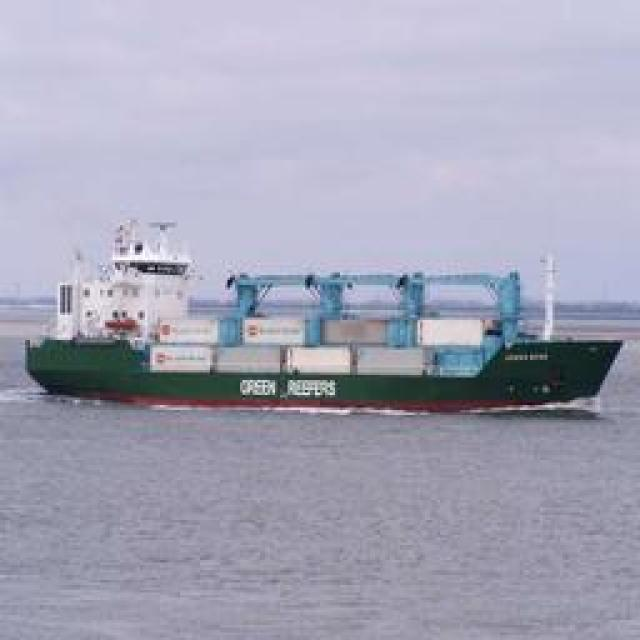ship2: (24, 219, 625, 416)
